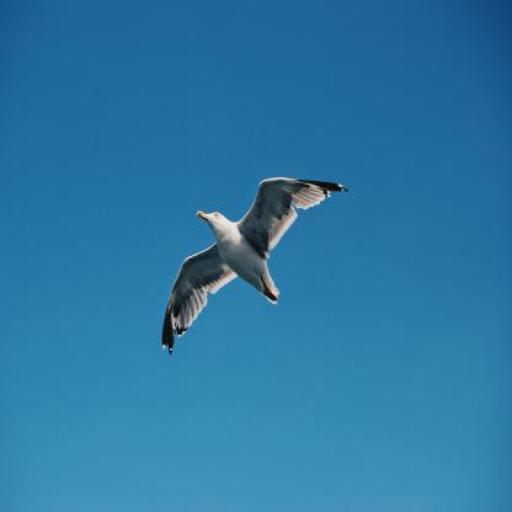bird: (159, 177, 349, 352)
